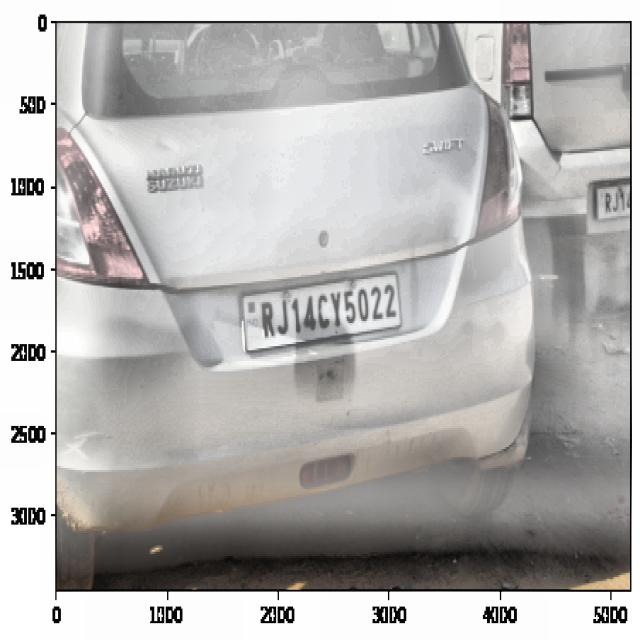license_plate: (256, 279, 399, 338)
